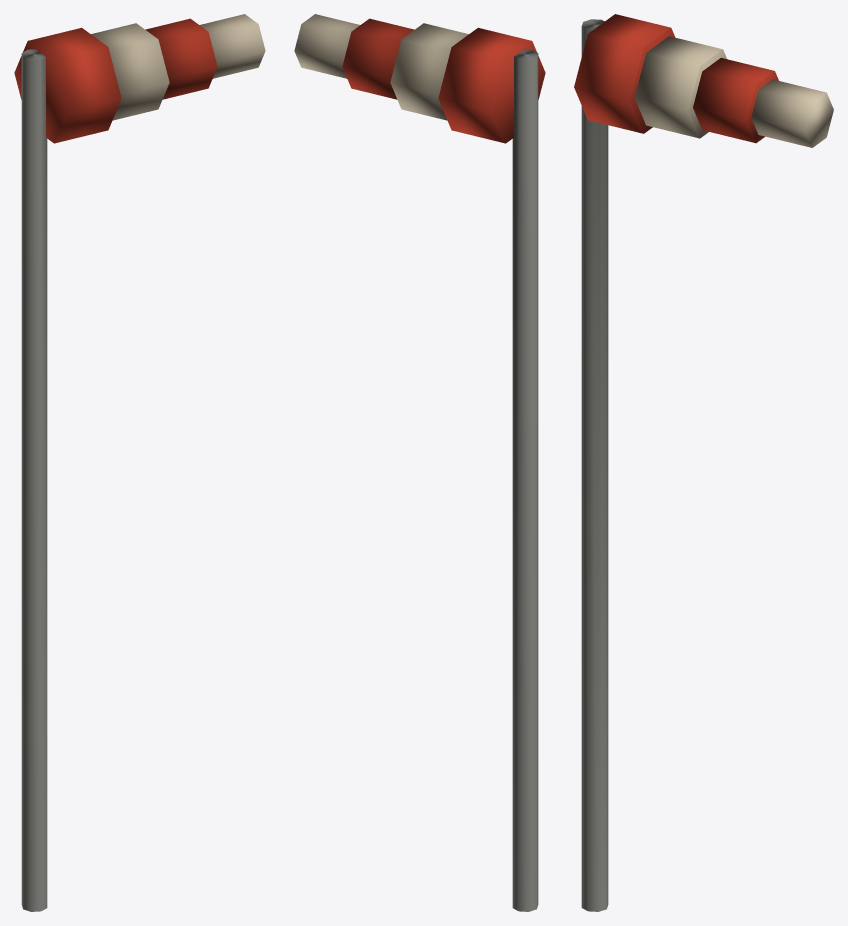
File: wind_sock.glb
3 views of the same model, side by side, from view 1: azimuth 30°, elevation 25°; view 2: azimuth 150°, elevation 25°; view 3: azimuth 330°, elevation 25° (orthographic). The views are drawn at different scales.
Visible parts, largest first — view 1: wind_sock; view 2: wind_sock; view 3: wind_sock.
Part boxes in pixels (x1=…): wind_sock: x1=14, y1=14, x2=265, y2=911; wind_sock: x1=294, y1=14, x2=545, y2=911; wind_sock: x1=574, y1=14, x2=833, y2=911.
Bounding box in the file's own units: 1.09 × 3.91 × 0.44.
